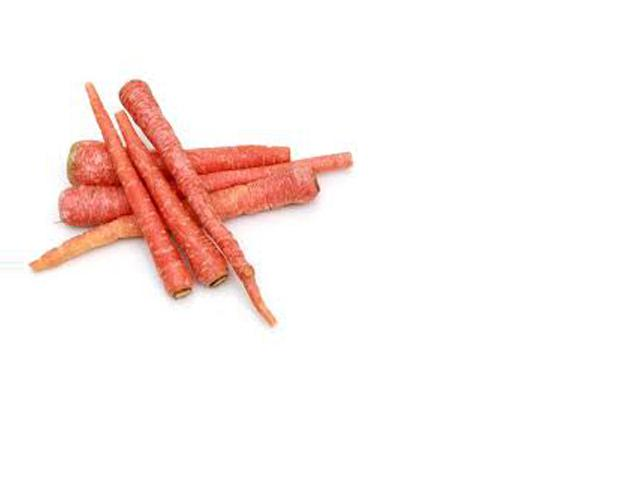carrot: (79, 83, 181, 292)
